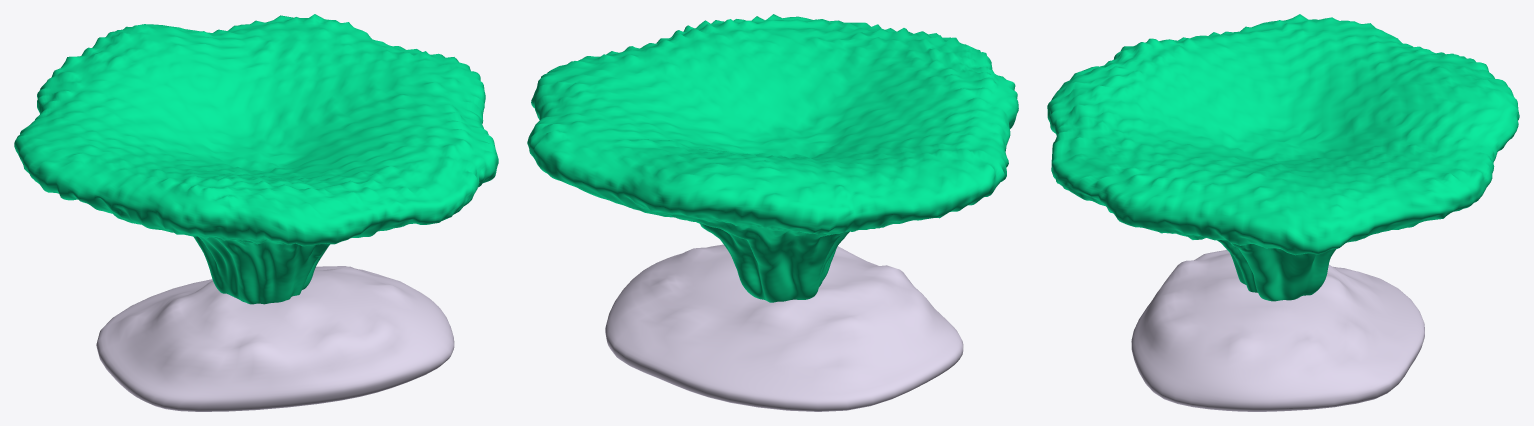
The model's file is coral3.glb.
3 views of the same model, side by side, from view 1: azimuth 30°, elevation 25°; view 2: azimuth 150°, elevation 25°; view 3: azimuth 270°, elevation 25° (orthographic). The views are drawn at different scales.
Parts seen in each view (by area): view 1: 20940_Table_Coral_v2; view 2: 20940_Table_Coral_v2; view 3: 20940_Table_Coral_v2.
Boxes of the visible parts, x1,y1,x2,y2 form: 20940_Table_Coral_v2: [14, 14, 498, 411]; 20940_Table_Coral_v2: [527, 14, 1018, 411]; 20940_Table_Coral_v2: [1047, 14, 1519, 411].
Bounding box in the file's own units: 9.7 × 5.28 × 9.15.
